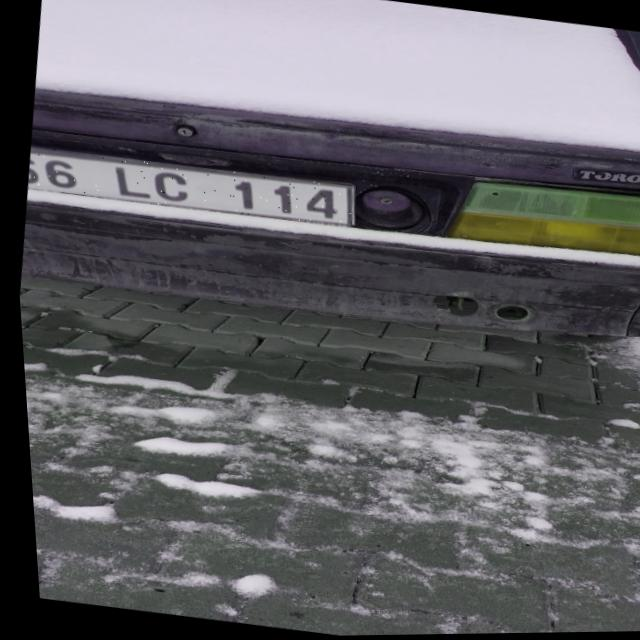license_plate: (23, 143, 353, 234)
